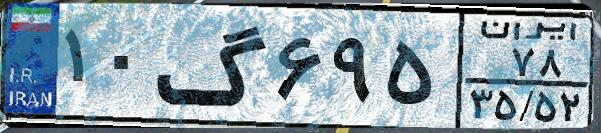0: (110, 28, 156, 98)
1: (57, 26, 110, 100)
2: (560, 70, 590, 125)
3: (470, 70, 495, 125)
5: (385, 28, 445, 110), (495, 70, 520, 125), (535, 70, 560, 125)
6: (270, 28, 330, 110)
7: (508, 27, 537, 80)
8: (537, 27, 568, 80)
9: (330, 28, 385, 110)
گ: (156, 12, 270, 120)
